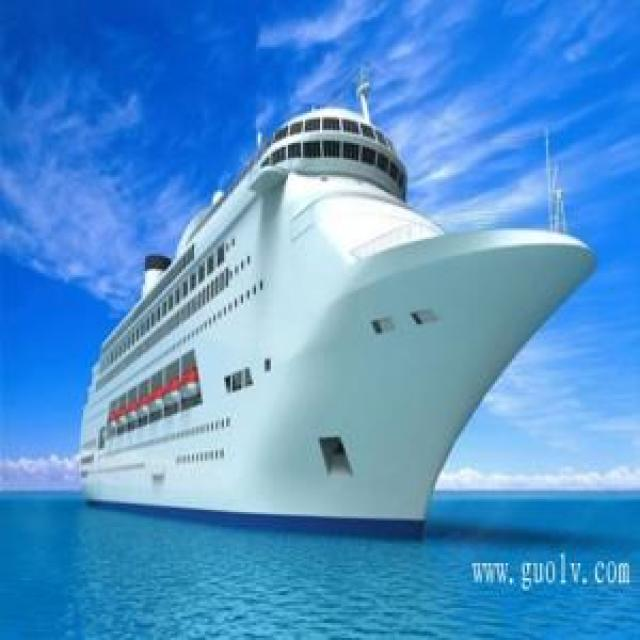passenger ship: (75, 104, 590, 532)
